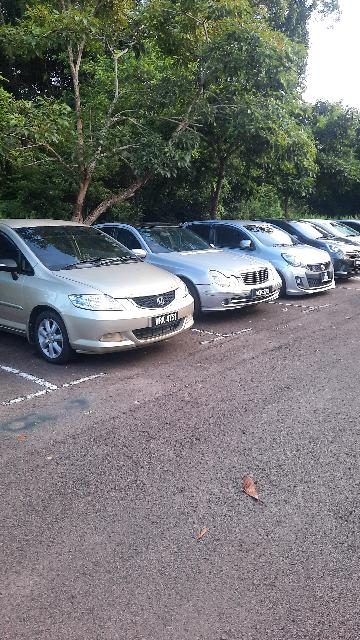License_Plate: (153, 313, 184, 328), (251, 287, 279, 300)
car: (2, 216, 201, 364), (94, 222, 282, 320)
